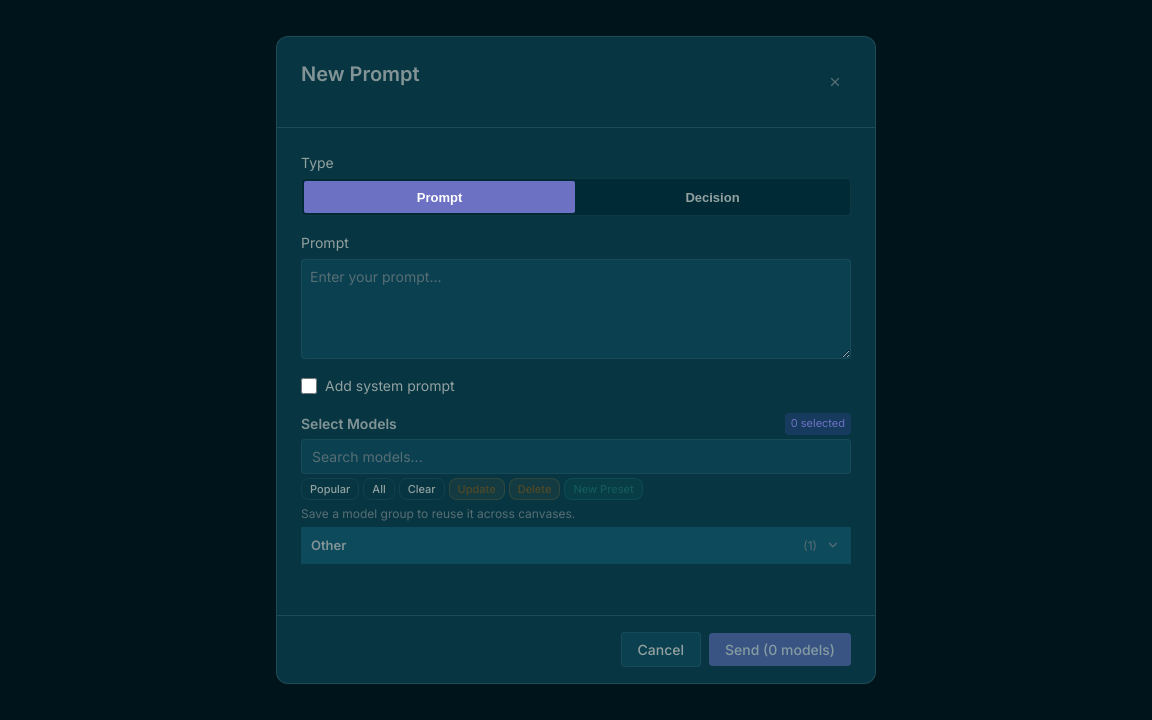
Scenario: PromptDialog › blocks Private Local twin prompts when no Ollama model is configured
This screenshot has width=1152, height=720.
Type "Use my twin records" into the text box labelled "Prompt" at (576, 309), box [301,259,851,359]
(page scrolled)
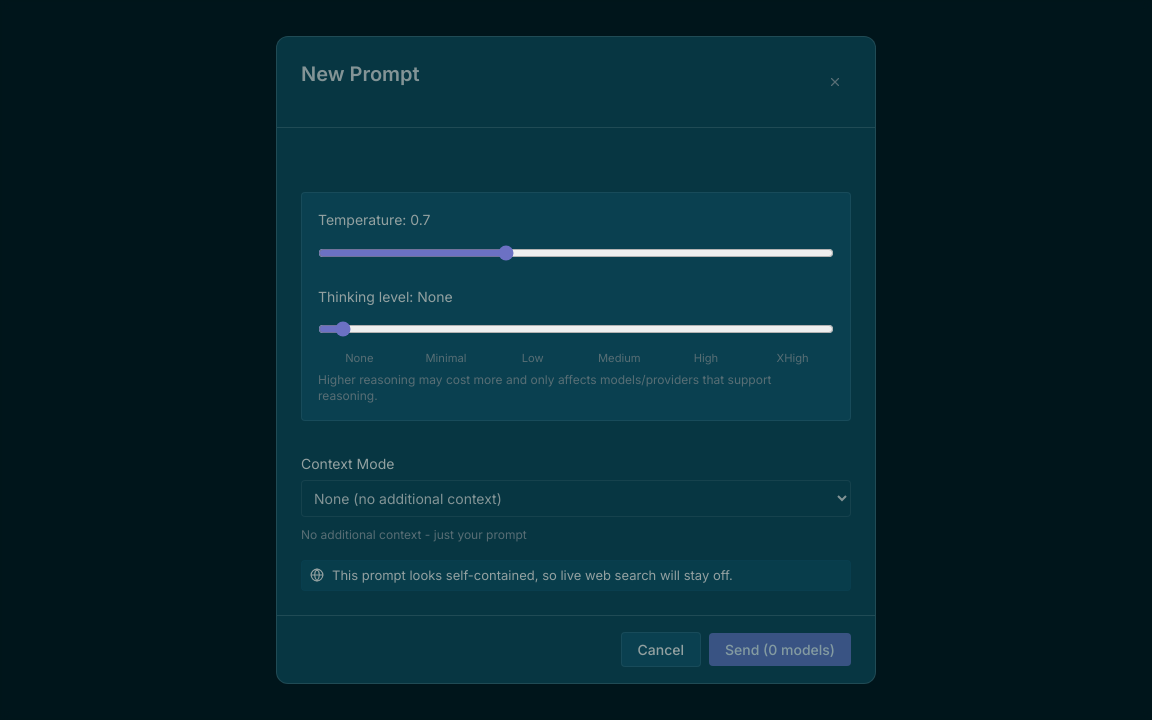
Select "Twin (notes + user records)" in the dropdown with id "contextMode" at (576, 498), box [301,480,851,517]
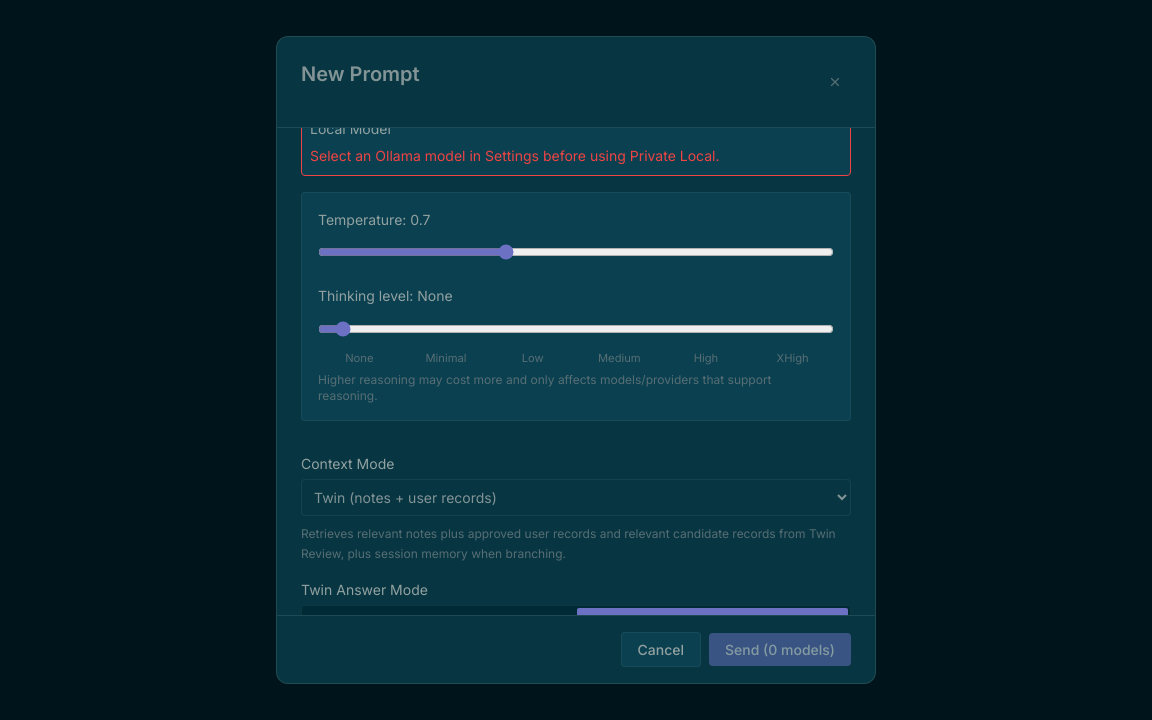
Expected: the button "Send (0 models)" is disabled, [709,633,851,666]
Now the text "Select an Ollama model in Settings" is shown, box [310,147,720,164]
